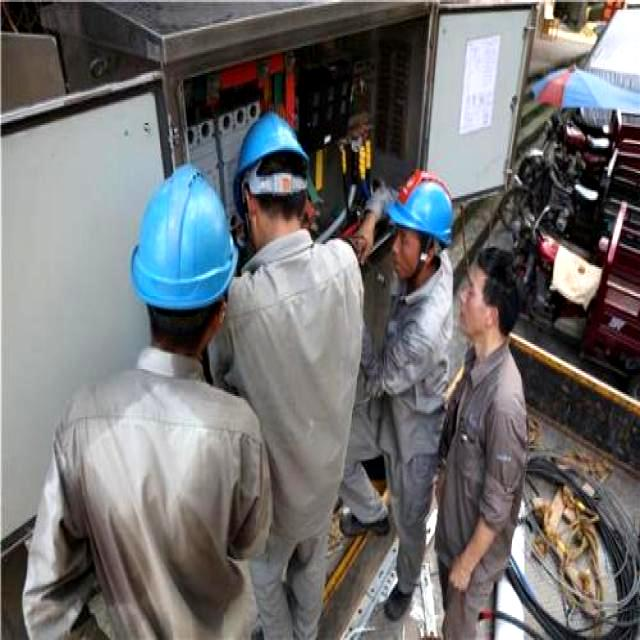hard_hat: (131, 163, 237, 309), (233, 111, 306, 211), (388, 171, 451, 242)
no_head_wear: (476, 245, 523, 336)
person: (22, 165, 278, 638), (211, 115, 362, 638), (340, 173, 454, 619), (435, 248, 526, 638)
